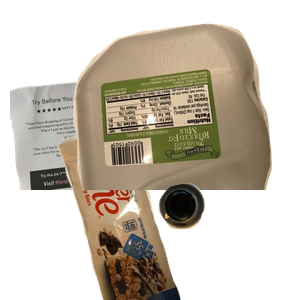glass: (156, 181, 300, 300)
paper: (10, 61, 250, 241)
plastic: (71, 21, 300, 201)
trash: (56, 120, 229, 300)
